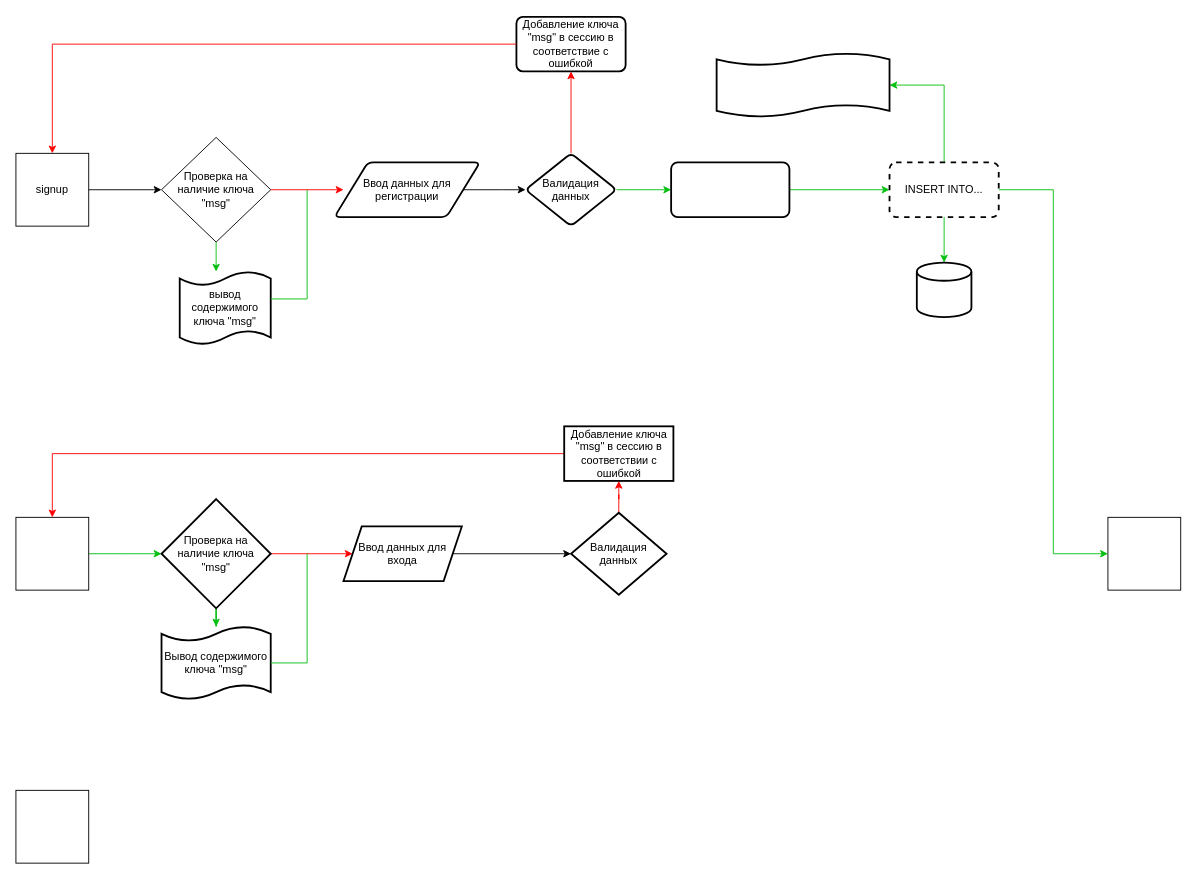
Image size: 1197x879. Some labels were removed from this diagram. Each missing label, with the box of its shape:
login: (15, 516, 89, 590)
profile: (1107, 516, 1181, 590)
recovery: (15, 789, 89, 863)
БД: (915, 261, 972, 318)
Вывод сообщения об ошибке записи в бд или о сбое подключения: (715, 52, 890, 117)
Хеширование пароля и секретного ключа: (670, 161, 790, 217)
